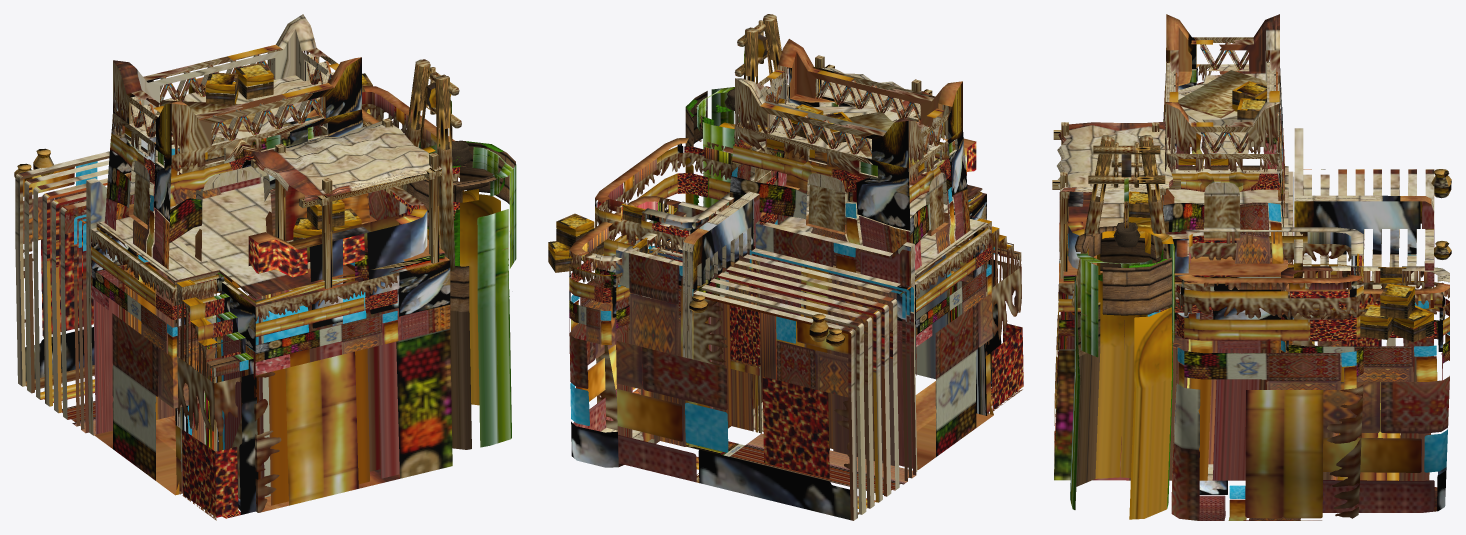
File: farmstead.dae
3 views of the same model, side by side, from view 1: azimuth 30°, elevation 25°; view 2: azimuth 150°, elevation 25°; view 3: azimuth 270°, elevation 25° (orthographic). The views are drawn at different scales.
Parts seen in each view (by area): view 1: numi_farmstead; view 2: numi_farmstead; view 3: numi_farmstead.
Part boxes in pixels (x1,y1,x2,y2): numi_farmstead: (14,14,516,520); numi_farmstead: (548,14,1023,520); numi_farmstead: (1052,14,1451,520).
Size of the model in its own units: 16.95 by 17.77 by 17.8.
